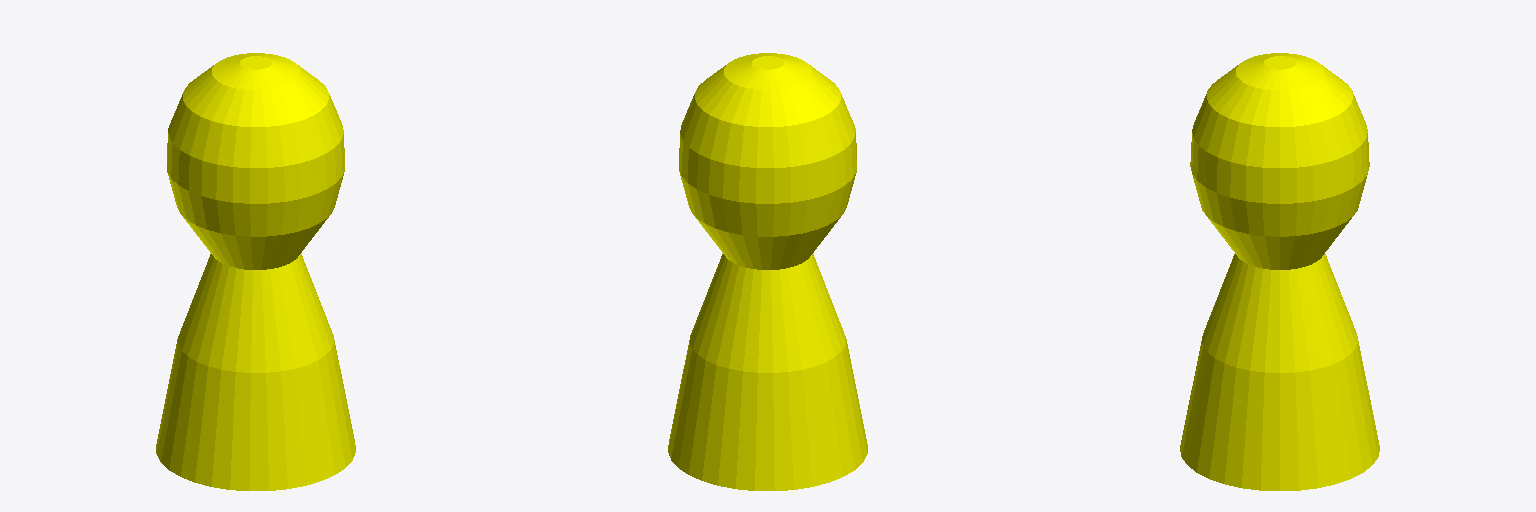
Rendered from yellow_pawn.obj.
The picture shows the model from 3 angles: view 1: azimuth 30°, elevation 25°; view 2: azimuth 150°, elevation 25°; view 3: azimuth 270°, elevation 25°; orthographic projection.
Visible parts, largest first — view 1: Circle; view 2: Circle; view 3: Circle.
Boxes of the visible parts, x1,y1,x2,y2 form: Circle: [156, 53, 355, 490]; Circle: [668, 53, 867, 490]; Circle: [1180, 53, 1379, 490].
Bounding box in the file's own units: 1.4 × 2.98 × 1.4.